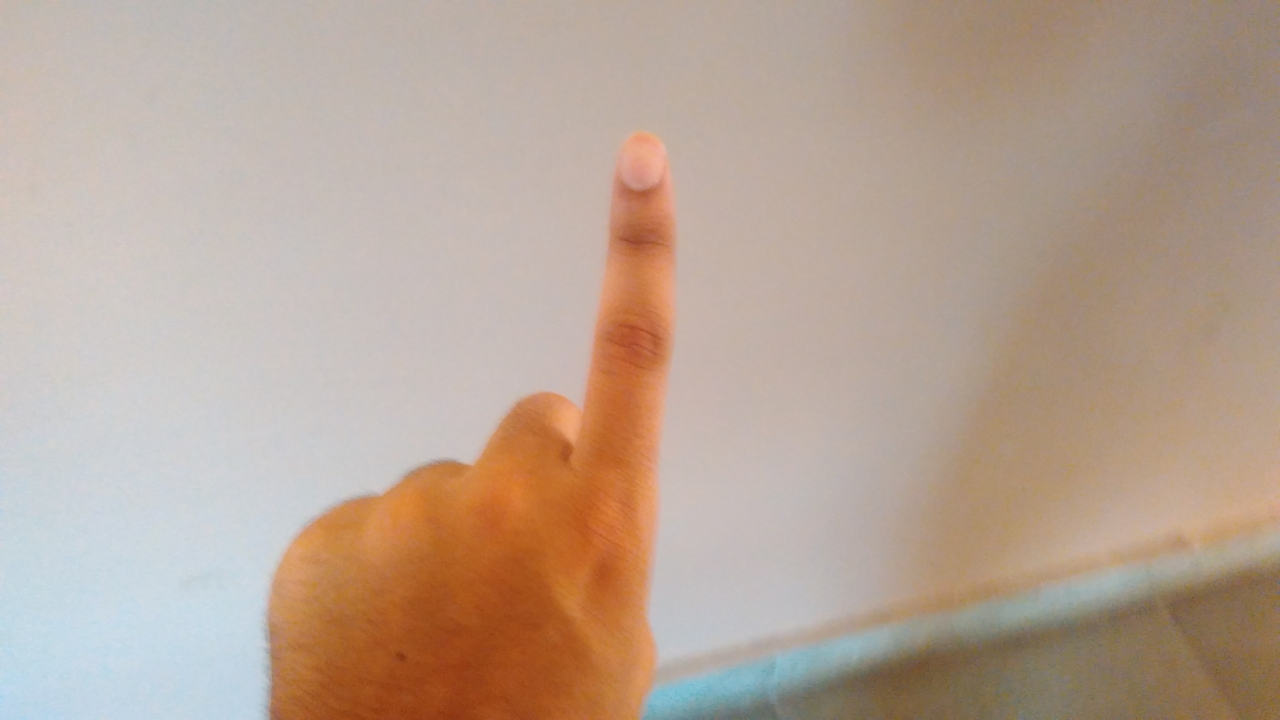fingertip: (606, 134, 678, 196)
